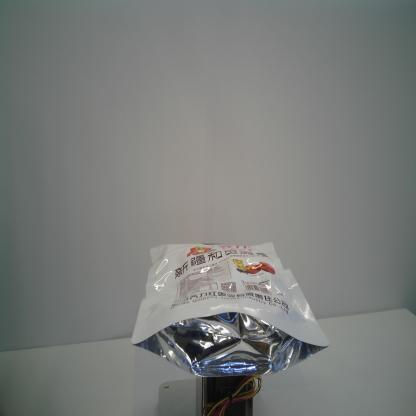Dried Food: (127, 235, 331, 379)
